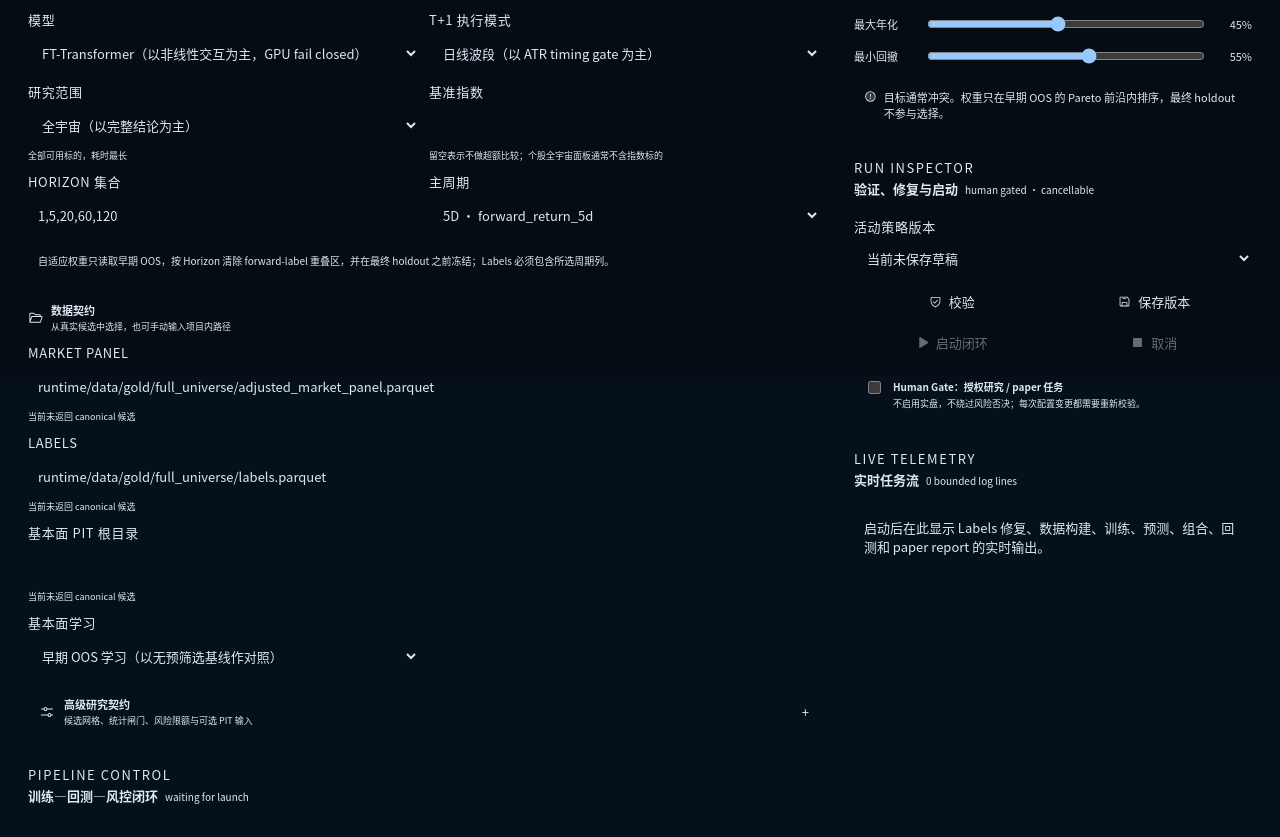
Scenario: validates, arms and exposes the governed decision council
(page scrolled)
Expected: the button "启动闭环" is disabled, [854,325,1050,359]
What coordinates should you click on to do the following:
click the checkbox
I would click on:
 (874, 388)
Its box is [868,381,881,394].
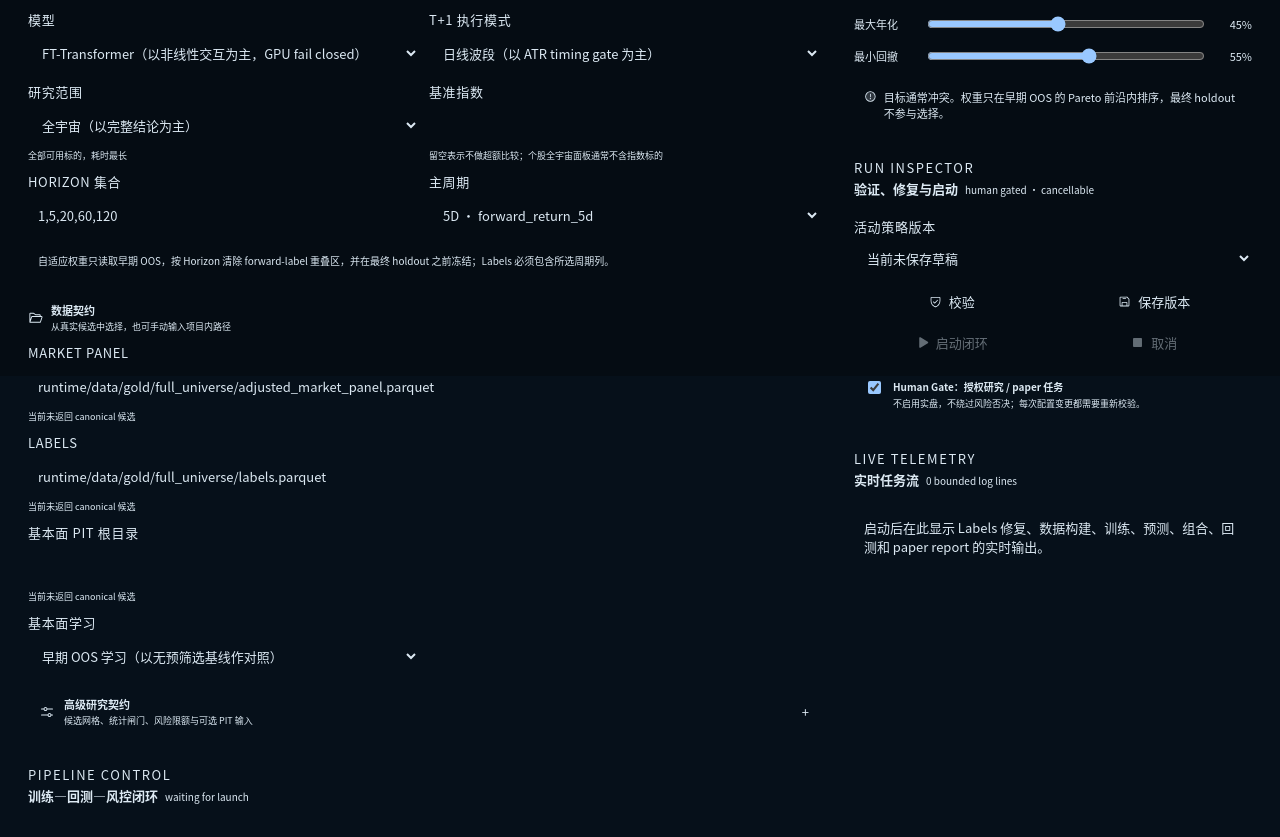
Expected: the button "启动闭环" is disabled, [854,325,1050,359]
What coordinates should you click on to do the following:
click the button "校验"
I would click on:
 (952, 301)
Its box is [854,284,1050,318].
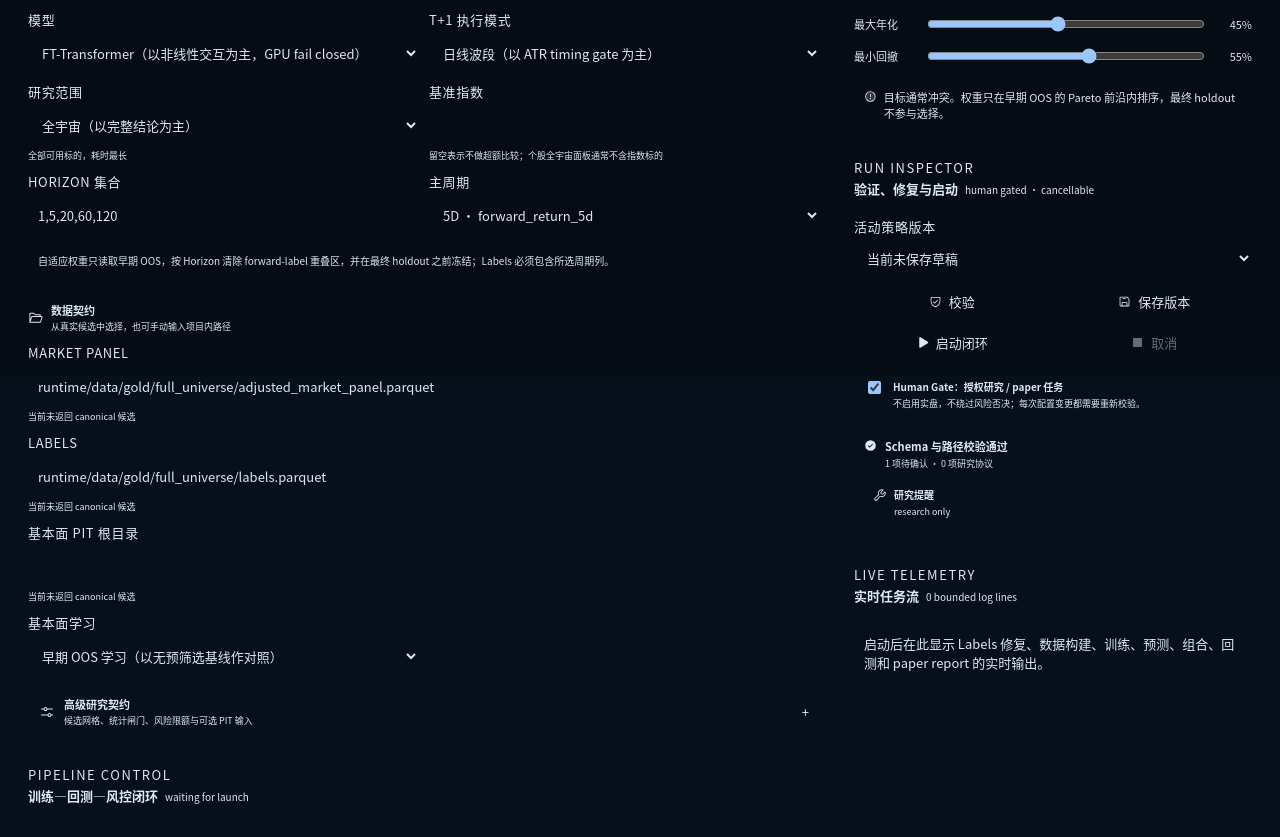
Expected: the text "Schema 与路径校验通过" is shown, [885,438,1008,454]
Expected: the button "启动闭环" is enabled, [854,325,1050,359]
